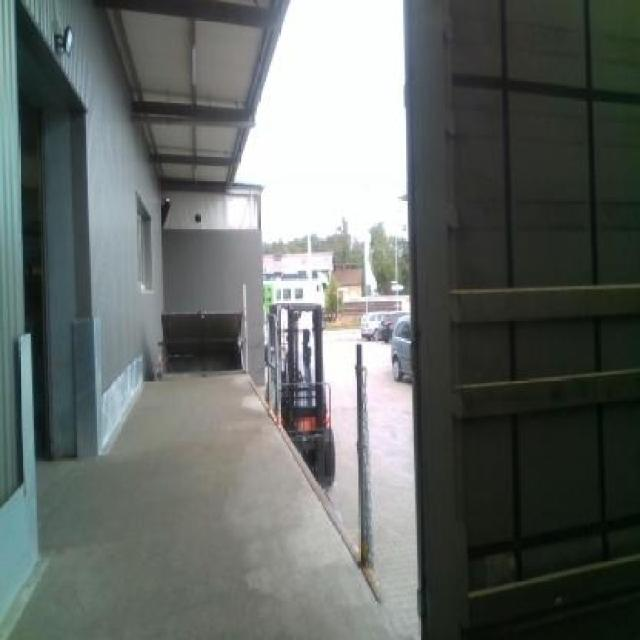floor: (8, 371, 392, 637)
pallets: (160, 312, 238, 369)
